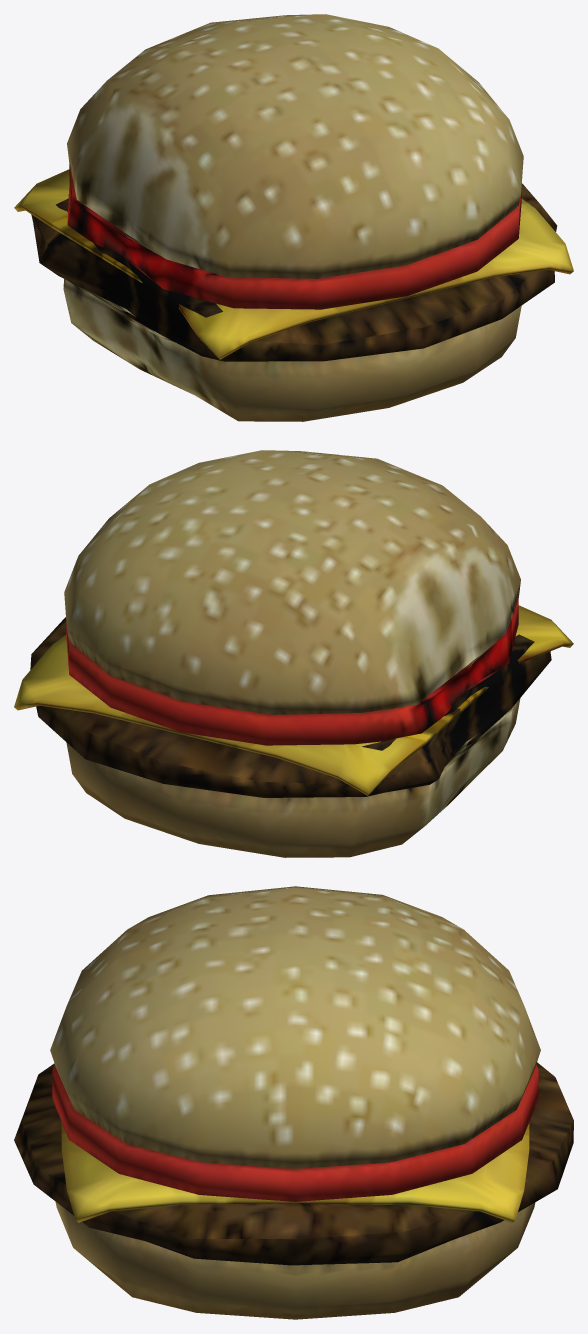
The picture shows the model from 3 angles, top to bottom: view 1: azimuth 30°, elevation 25°; view 2: azimuth 150°, elevation 25°; view 3: azimuth 270°, elevation 25°; orthographic projection. The views are drawn at different scales.
Visible parts, largest first — view 1: cheezburger; view 2: cheezburger; view 3: cheezburger.
Part boxes in pixels (x1,y1,x2,y2): cheezburger: (14, 14, 573, 421); cheezburger: (14, 450, 573, 857); cheezburger: (14, 886, 573, 1319).
Bounding box in the file's own units: 0.1176 × 0.0797 × 0.125.
Materials: 1 (1 with a texture image).
